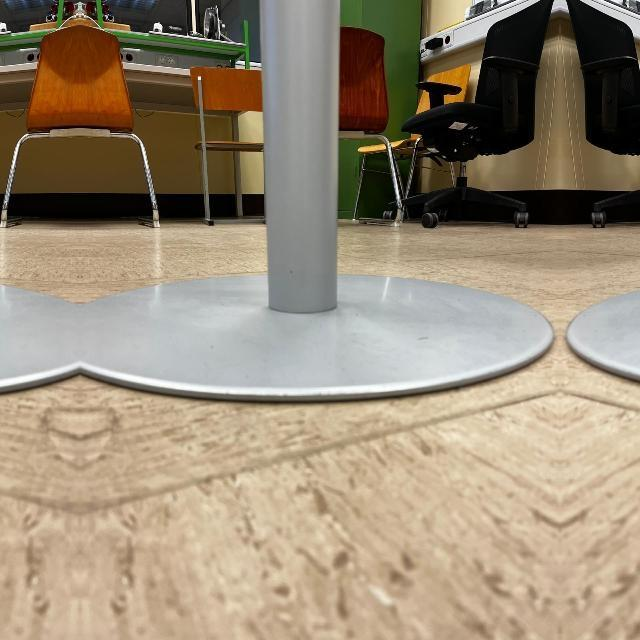obstacle: (80, 11, 556, 400), (0, 10, 80, 399), (564, 10, 640, 399)
